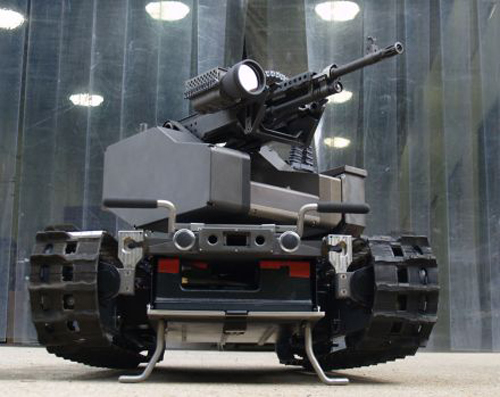rifle: (172, 36, 415, 124)
